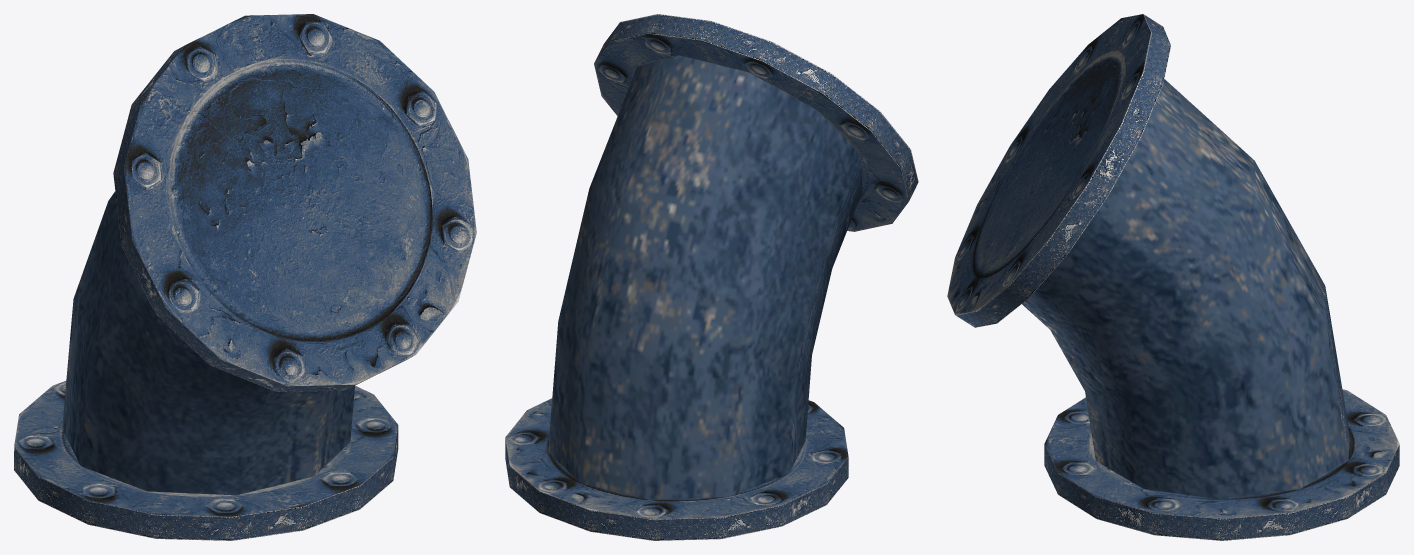
The model's file is elbow_55_blue.DAE.
3 renders of one model, left to right at view 1: azimuth 30°, elevation 25°; view 2: azimuth 150°, elevation 25°; view 3: azimuth 270°, elevation 25°, orthographic. The views are drawn at different scales.
Visible parts, largest first — view 1: Object515, Torus036; view 2: Torus036, Object515; view 3: Torus036, Object515.
Part boxes in pixels (bbox=[...]): Object515: bbox=[14, 14, 476, 540]; Torus036: bbox=[62, 191, 354, 495]; Torus036: bbox=[548, 55, 862, 500]; Object515: bbox=[505, 14, 918, 540]; Torus036: bbox=[1022, 79, 1348, 499]; Object515: bbox=[947, 14, 1399, 540].
Size of the model in its own units: 0.6566 by 0.8362 by 0.8835.
